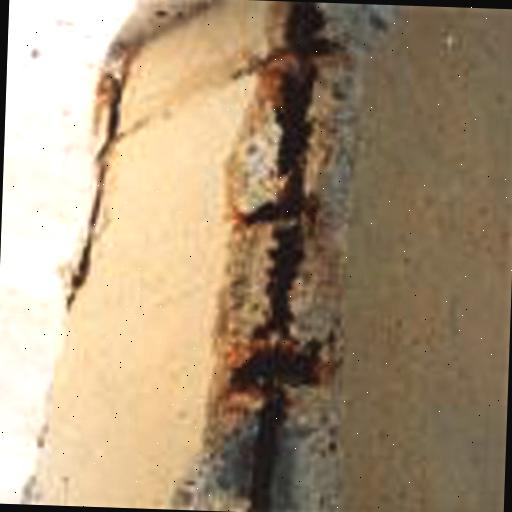spalling: (209, 0, 355, 511)
